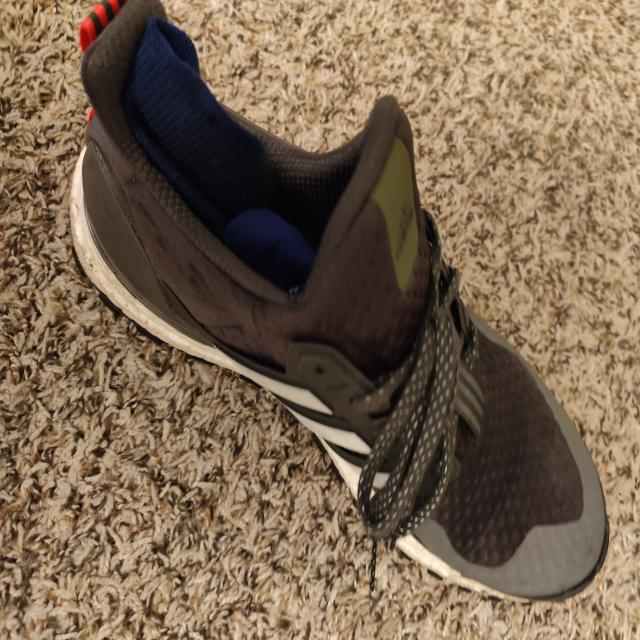black shoes: (72, 6, 607, 597)
